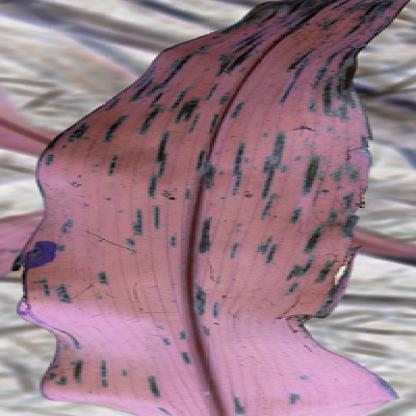Corn Gray leaf spot: (23, 2, 408, 415)
